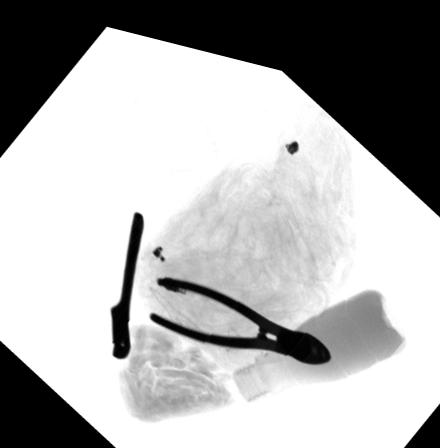Pliers: (148, 270, 333, 350)
Wrench: (108, 204, 144, 351)
